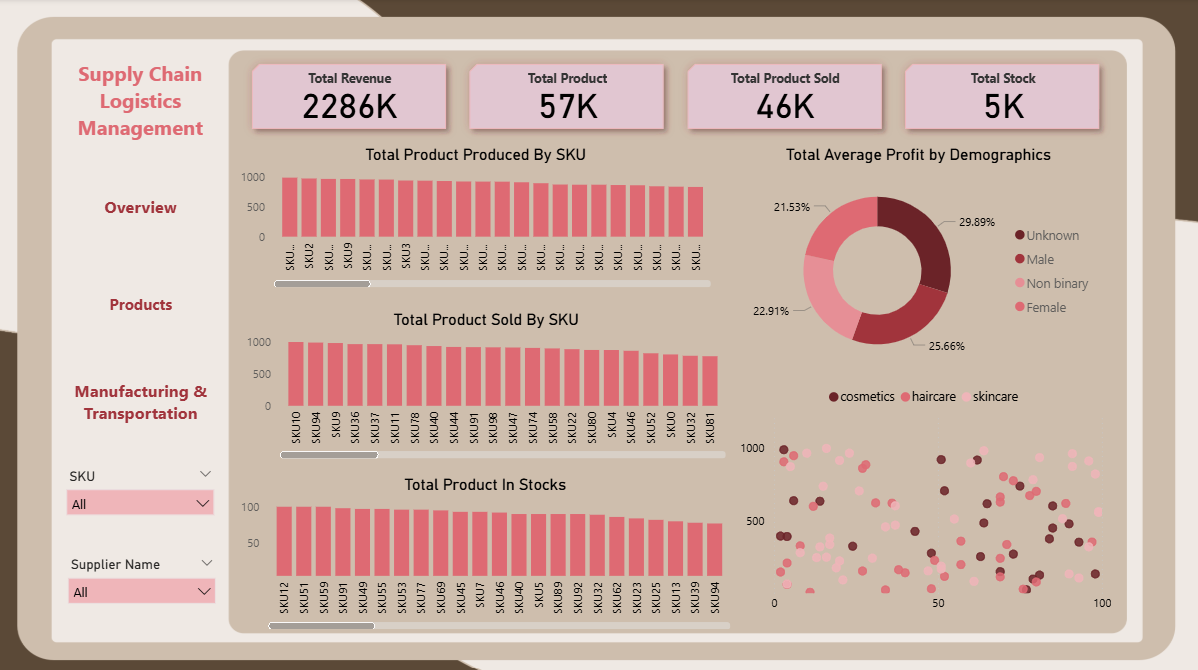

The page's visual inventory and layout, read from the dashboard file:
{"tool":"powerbi","page":{"name":"Products","canvas":[1280,720],"ordinal":1},"visuals":[{"type":"columnChart","title":"Total Product Produced By SKU","fields":{"Y":["Measure.total Product Produced"],"Category":["supply_chain_data.Stock_Unique_code"]},"box":[252.9,155.9,509,155.9],"z":0},{"type":"columnChart","title":"Total Product Sold By SKU","fields":{"Category":["supply_chain_data.Stock_Unique_code"],"Y":["Measure.Total Product Sold"]},"box":[259.3,330.8,518.5,162.2],"z":1000},{"type":"cardVisual","fields":{"Data":["Measure.Total Revenue","Measure.total Product Produced","Measure.Total Product Sold","Measure.total Stock"]},"box":[252.9,52.5,933.7,103.4],"z":2000},{"type":"columnChart","title":"Total Product In Stocks ","fields":{"Category":["supply_chain_data.Stock_Unique_code"],"Y":["Measure.total Stock"]},"box":[252.9,505.8,529.7,168.6],"z":3000},{"type":"donutChart","title":"Total  Average Profit by Demographics","fields":{"Category":["supply_chain_data.Genders"],"Y":["Measure.Average Profit"]},"box":[783.3,155.6,388.9,246.3],"z":4000},{"type":"pageNavigator","box":[77.9,175,149.5,300.6],"z":5000,"group":"g1"},{"type":"scatterChart","fields":{"Category":["stock level.SKU"],"X":["Sum(supply_chain_data.Product_price)"],"Y":["Measure.Total Product Sold"],"Series":["supply_chain_data.Product_type"]},"box":[783.3,401.9,403.7,257.4],"z":5000},{"type":"group","id":"g1","title":"Group 1","box":[63.6,58.9,178.1,604.4],"z":6000},{"type":"slicer","fields":{"Values":["stock level.SKU"]},"box":[63.6,493.1,176.6,77.9],"z":6000,"group":"g1"},{"type":"slicer","fields":{"Values":["supply_chain_data.Supplier_name"]},"box":[65.2,587,176.6,76.3],"z":7000,"group":"g1"},{"type":"textbox","box":[70,58.9,163.8,98.6],"z":8000,"group":"g1"}]}

Visuals, with their boxes in screenshot pixels (x1, y1, x2, y2), scaled from the page's 1280x720 canvas onto the 1198x670 screenshot:
"Total Product Produced By SKU" columnChart: {"left": 237, "top": 145, "right": 713, "bottom": 290}
"Total Product Sold By SKU" columnChart: {"left": 243, "top": 308, "right": 728, "bottom": 459}
cardVisual - Measure.Total Revenue x Measure.total Product Produced: {"left": 237, "top": 49, "right": 1111, "bottom": 145}
"Total Product In Stocks " columnChart: {"left": 237, "top": 471, "right": 732, "bottom": 628}
"Total  Average Profit by Demographics" donutChart: {"left": 733, "top": 145, "right": 1097, "bottom": 374}
pageNavigator: {"left": 73, "top": 163, "right": 213, "bottom": 443}
scatterChart - stock level.SKU x Sum(supply_chain_data.Product_price): {"left": 733, "top": 374, "right": 1111, "bottom": 614}
"Group 1" group: {"left": 60, "top": 55, "right": 226, "bottom": 617}
slicer - stock level.SKU: {"left": 60, "top": 459, "right": 225, "bottom": 531}
slicer - supply_chain_data.Supplier_name: {"left": 61, "top": 546, "right": 226, "bottom": 617}
textbox: {"left": 66, "top": 55, "right": 219, "bottom": 147}
